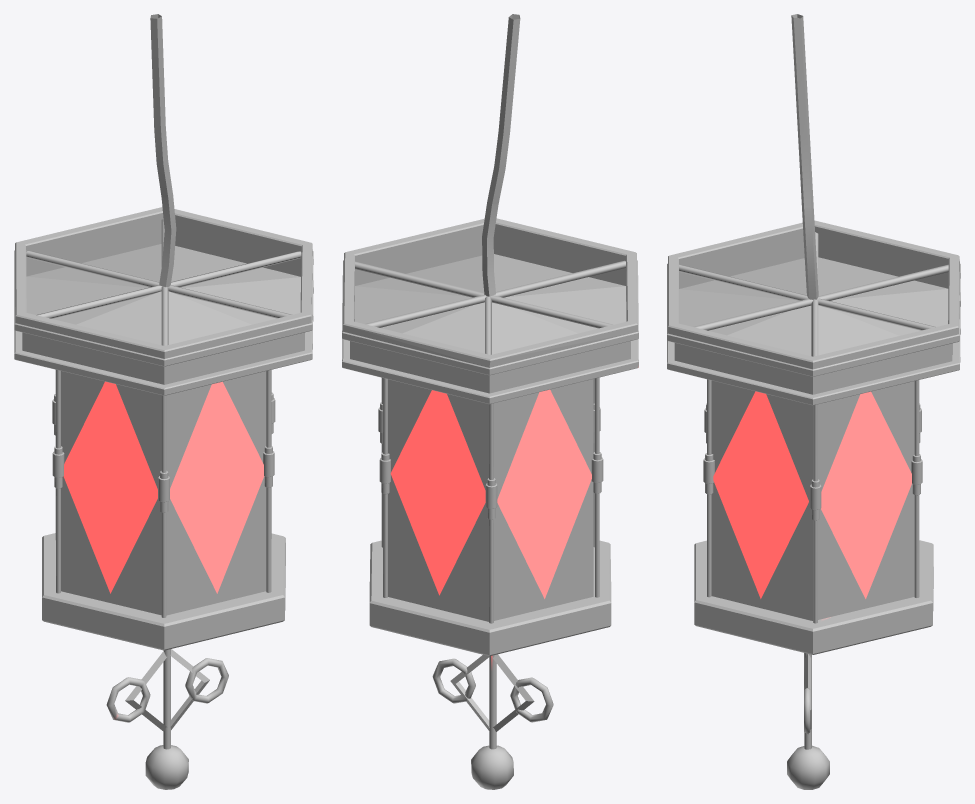
The model's file is SM_LightSet_Baloon2.FBX.
3 views of the same model, side by side, from view 1: azimuth 30°, elevation 25°; view 2: azimuth 150°, elevation 25°; view 3: azimuth 270°, elevation 25° (orthographic). The views are drawn at different scales.
Parts seen in each view (by area): view 1: SM_LightSet_Baloon2; view 2: SM_LightSet_Baloon2; view 3: SM_LightSet_Baloon2.
Part boxes in pixels (x1,y1,x2,y2): SM_LightSet_Baloon2: [14, 14, 313, 789]; SM_LightSet_Baloon2: [342, 14, 638, 789]; SM_LightSet_Baloon2: [667, 14, 960, 789].
Size of what is drawn, in the model's own units: 73.17 by 63.55 by 182.
